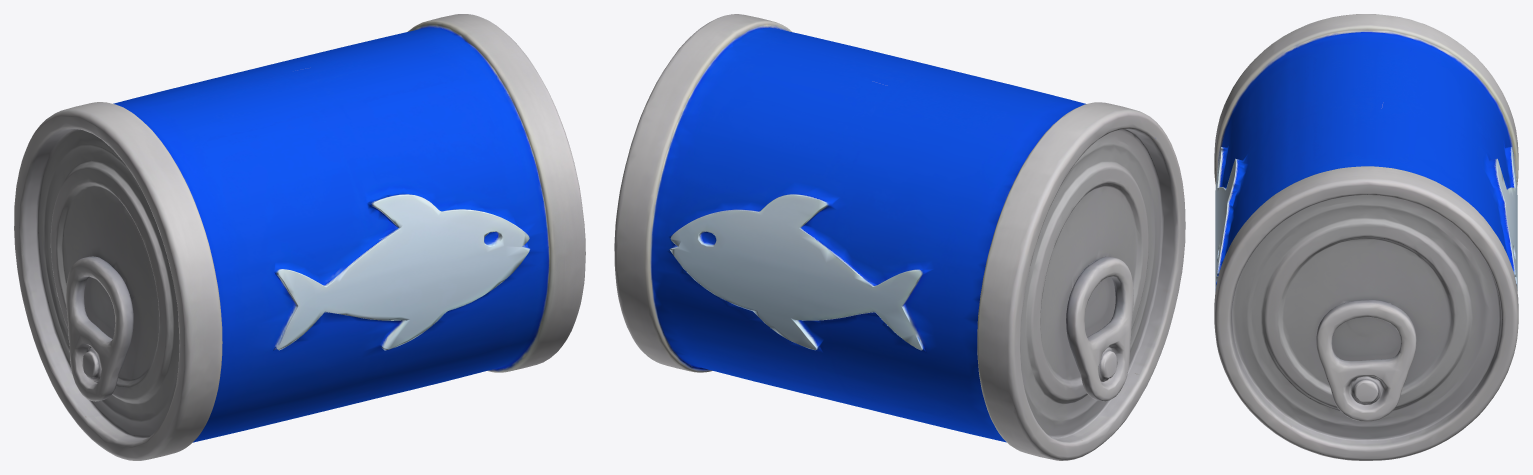
The model's file is tuna.glb.
3 renders of one model, left to right at view 1: azimuth 30°, elevation 25°; view 2: azimuth 150°, elevation 25°; view 3: azimuth 270°, elevation 25°, orthographic. The views are drawn at different scales.
Parts seen in each view (by area): view 1: tripo_node_eb861cfc-b037-47e5-82d4-ceb56c06f056; view 2: tripo_node_eb861cfc-b037-47e5-82d4-ceb56c06f056; view 3: tripo_node_eb861cfc-b037-47e5-82d4-ceb56c06f056.
Boxes of the visible parts, box(x1,y1,x2,y2) form: tripo_node_eb861cfc-b037-47e5-82d4-ceb56c06f056: box(14, 14, 585, 460); tripo_node_eb861cfc-b037-47e5-82d4-ceb56c06f056: box(614, 14, 1185, 460); tripo_node_eb861cfc-b037-47e5-82d4-ceb56c06f056: box(1214, 14, 1518, 460).
Bounding box in the file's own units: 0.9814 × 0.714 × 0.697.
1 material, 1 textured.
